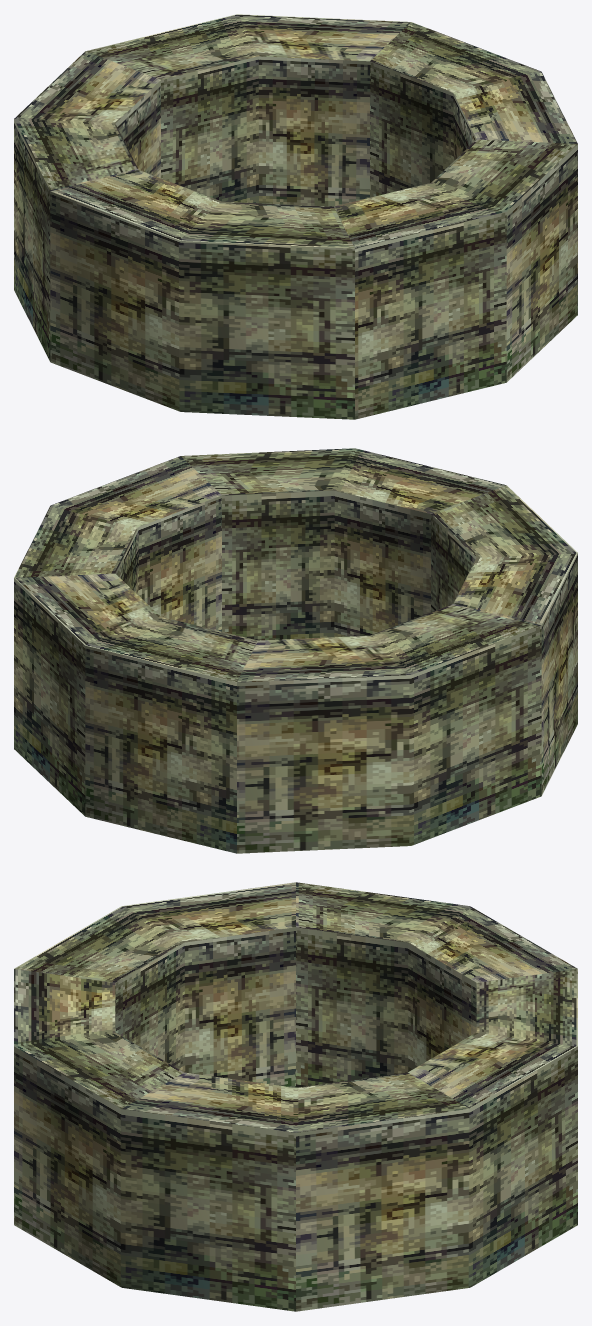
File: build-well.glb
The picture shows the model from 3 angles, top to bottom: view 1: azimuth 30°, elevation 25°; view 2: azimuth 150°, elevation 25°; view 3: azimuth 270°, elevation 25°; orthographic projection. The views are drawn at different scales.
Size of the model in its own units: 0.44 by 0.1464 by 0.4185.
Materials: 1 (1 with a texture image).
